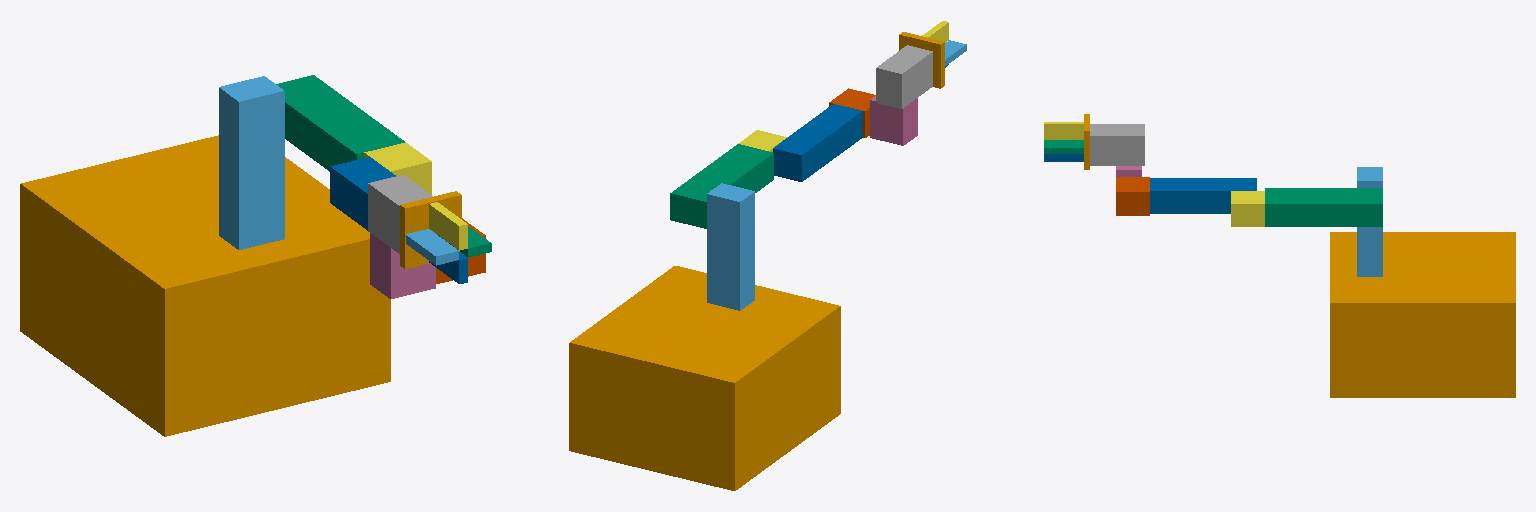
The robot description file, URDF, robot "[local-path]/JaniBot/Robot.urdf":
<?xml version="1.0"?>
<robot name="[local-path]/JaniBot/Robot.urdf" xmlns:xacro="http://ros.org/wiki/xacro">
  <link name="base_link">
    <visual>
      <origin xyz="0 0 -0.065" rpy="0 0 0"/>
      <geometry>
        <box size="0.64 0.706849 0.4004"/>
      </geometry>
    </visual>
    <collision>
      <origin xyz="0 0 -0.065" rpy="0 0 0"/>
      <geometry>
        <box size="0.64 0.706849 0.4004"/>
      </geometry>
    </collision>
  </link>
  <joint name="base_motor" type="continuous">
    <parent link="base_link"/>
    <child link="base_motor_14"/>
    <axis xyz="0 0 1"/>
    <limit effort="10" velocity="10"/>
    <origin xyz="0 -0.2 0.13" rpy="0 0 0"/>
  </joint>
  <link name="base_motor_14">
    <visual>
      <origin xyz="0.0151996 1.11759e-08 0.204925" rpy="0 0 0"/>
      <geometry>
        <box size="0.129851 0.1 0.40393"/>
      </geometry>
    </visual>
    <collision>
      <origin xyz="0.0151996 1.11759e-08 0.204925" rpy="0 0 0"/>
      <geometry>
        <box size="0.129851 0.1 0.40393"/>
      </geometry>
    </collision>
  </link>
  <joint name="arm_a_motor" type="continuous">
    <parent link="base_motor_14"/>
    <child link="arm_a_motor_24"/>
    <axis xyz="1 0 0"/>
    <limit effort="10" velocity="10"/>
    <origin xyz="0.0801831 5.96046e-08 0.32689" rpy="0 0 0"/>
  </joint>
  <link name="arm_a_motor_24">
    <visual>
      <origin xyz="0.07 -0.176146 -1.86265e-08" rpy="0 0 0"/>
      <geometry>
        <box size="0.14 0.451743 0.1"/>
      </geometry>
    </visual>
    <collision>
      <origin xyz="0.07 -0.176146 -1.86265e-08" rpy="0 0 0"/>
      <geometry>
        <box size="0.14 0.451743 0.1"/>
      </geometry>
    </collision>
  </link>
  <joint name="joint_a_motor" type="continuous">
    <parent link="arm_a_motor_24"/>
    <child link="joint_a_motor_34"/>
    <axis xyz="0 1 0"/>
    <limit effort="10" velocity="10"/>
    <origin xyz="0.0798171 -0.399875 -5.96046e-08" rpy="0 0 0"/>
  </joint>
  <link name="joint_a_motor_34">
    <visual>
      <origin xyz="0.00113802 -0.0649255 0" rpy="0 0 0"/>
      <geometry>
        <box size="0.118092 0.129851 0.1"/>
      </geometry>
    </visual>
    <collision>
      <origin xyz="0.00113802 -0.0649255 0" rpy="0 0 0"/>
      <geometry>
        <box size="0.118092 0.129851 0.1"/>
      </geometry>
    </collision>
  </link>
  <joint name="arm_b_motor" type="continuous">
    <parent link="joint_a_motor_34"/>
    <child link="arm_b_motor_44"/>
    <axis xyz="1 0 0"/>
    <limit effort="10" velocity="10"/>
    <origin xyz="-0.057908 -0.080125 0" rpy="0 0 0"/>
  </joint>
  <link name="arm_b_motor_44">
    <visual>
      <origin xyz="-0.056334 -0.154057 9.31323e-09" rpy="0 0 0"/>
      <geometry>
        <box size="0.112668 0.408113 0.099452"/>
      </geometry>
    </visual>
    <collision>
      <origin xyz="-0.056334 -0.154057 9.31323e-09" rpy="0 0 0"/>
      <geometry>
        <box size="0.112668 0.408113 0.099452"/>
      </geometry>
    </collision>
  </link>
  <joint name="joint_b_motor" type="continuous">
    <parent link="arm_b_motor_44"/>
    <child link="joint_b_motor_54"/>
    <axis xyz="0 1 0"/>
    <limit effort="10" velocity="10"/>
    <origin xyz="-0.0626679 -0.358113 -5.96046e-08" rpy="0 0 0"/>
  </joint>
  <link name="joint_b_motor_54">
    <visual>
      <origin xyz="0.00990802 -0.0649255 -3.72529e-09" rpy="0 0 0"/>
      <geometry>
        <box size="0.140184 0.129851 0.1"/>
      </geometry>
    </visual>
    <collision>
      <origin xyz="0.00990802 -0.0649255 -3.72529e-09" rpy="0 0 0"/>
      <geometry>
        <box size="0.140184 0.129851 0.1"/>
      </geometry>
    </collision>
  </link>
  <joint name="joint_c_motor" type="continuous">
    <parent link="joint_b_motor_54"/>
    <child link="joint_c_motor_64"/>
    <axis xyz="1 0 0"/>
    <limit effort="10" velocity="10"/>
    <origin xyz="-0.05992 -0.080065 0" rpy="0 0 0"/>
  </joint>
  <link name="joint_c_motor_64">
    <visual>
      <origin xyz="-0.0649255 -2.23517e-08 0.00990805" rpy="0 0 0"/>
      <geometry>
        <box size="0.129851 0.1 0.140184"/>
      </geometry>
    </visual>
    <collision>
      <origin xyz="-0.0649255 -2.23517e-08 0.00990805" rpy="0 0 0"/>
      <geometry>
        <box size="0.129851 0.1 0.140184"/>
      </geometry>
    </collision>
  </link>
  <joint name="joint_d_motor" type="continuous">
    <parent link="joint_c_motor_64"/>
    <child link="joint_d_motor_74"/>
    <axis xyz="0 0 1"/>
    <limit effort="10" velocity="10"/>
    <origin xyz="-0.079971 0.000211835 0.08" rpy="0 0 0"/>
  </joint>
  <link name="joint_d_motor_74">
    <visual>
      <origin xyz="6.33299e-08 -0.0458905 0.0649255" rpy="0 0 0"/>
      <geometry>
        <box size="0.1 0.212149 0.129851"/>
      </geometry>
    </visual>
    <collision>
      <origin xyz="6.33299e-08 -0.0458905 0.0649255" rpy="0 0 0"/>
      <geometry>
        <box size="0.1 0.212149 0.129851"/>
      </geometry>
    </collision>
  </link>
  <joint name="grip_base_motor" type="continuous">
    <parent link="joint_d_motor_74"/>
    <child link="grip_base_motor_84"/>
    <axis xyz="0 1 0"/>
    <limit effort="10" velocity="10"/>
    <origin xyz="9.68575e-08 -0.160421 0.080125" rpy="0 0 0"/>
  </joint>
  <link name="grip_base_motor_84">
    <visual>
      <origin xyz="0.000149999 0 0" rpy="0 0 0"/>
      <geometry>
        <box size="0.159496 0.0262681 0.163764"/>
      </geometry>
    </visual>
    <collision>
      <origin xyz="0.000149999 0 0" rpy="0 0 0"/>
      <geometry>
        <box size="0.159496 0.0262681 0.163764"/>
      </geometry>
    </collision>
  </link>
  <joint name="grip_b_motor" type="continuous">
    <parent link="grip_base_motor_84"/>
    <child link="grip_b_motor_124"/>
    <axis xyz="0 0 1"/>
    <limit effort="10" velocity="10"/>
    <origin xyz="-0.06575 0.00192595 -5.96046e-08" rpy="0 0 0"/>
  </joint>
  <link name="grip_b_motor_124">
    <visual>
      <origin xyz="0.019878 -0.0818821 5.12227e-09" rpy="0 0 0"/>
      <geometry>
        <box size="0.0660241 0.163764 0.02467"/>
      </geometry>
    </visual>
    <collision>
      <origin xyz="0.019878 -0.0818821 5.12227e-09" rpy="0 0 0"/>
      <geometry>
        <box size="0.0660241 0.163764 0.02467"/>
      </geometry>
    </collision>
  </link>
  <joint name="grip_a_motor" type="continuous">
    <parent link="grip_base_motor_84"/>
    <child link="grip_a_motor_114"/>
    <axis xyz="0 0 1"/>
    <limit effort="10" velocity="10"/>
    <origin xyz="0.0656731 0.00192595 -5.96046e-08" rpy="0 0 0"/>
  </joint>
  <link name="grip_a_motor_114">
    <visual>
      <origin xyz="-0.019878 -0.0818821 1.86265e-08" rpy="0 0 0"/>
      <geometry>
        <box size="0.066024 0.163764 0.0246701"/>
      </geometry>
    </visual>
    <collision>
      <origin xyz="-0.019878 -0.0818821 1.86265e-08" rpy="0 0 0"/>
      <geometry>
        <box size="0.066024 0.163764 0.0246701"/>
      </geometry>
    </collision>
  </link>
  <joint name="grip_c_motor" type="continuous">
    <parent link="grip_base_motor_84"/>
    <child link="grip_c_motor_104"/>
    <axis xyz="1 0 0"/>
    <limit effort="10" velocity="10"/>
    <origin xyz="5.21541e-08 0.00192595 0.0657499" rpy="0 0 0"/>
  </joint>
  <link name="grip_c_motor_104">
    <visual>
      <origin xyz="2.56114e-08 -0.0818821 -0.019878" rpy="0 0 0"/>
      <geometry>
        <box size="0.0246701 0.163764 0.0660241"/>
      </geometry>
    </visual>
    <collision>
      <origin xyz="2.56114e-08 -0.0818821 -0.019878" rpy="0 0 0"/>
      <geometry>
        <box size="0.0246701 0.163764 0.0660241"/>
      </geometry>
    </collision>
  </link>
  <joint name="grip_d_motor" type="continuous">
    <parent link="grip_base_motor_84"/>
    <child link="grip_d_motor_94"/>
    <axis xyz="1 0 0"/>
    <limit effort="10" velocity="10"/>
    <origin xyz="-1.49012e-08 0.00192595 -0.0656731" rpy="0 0 0"/>
  </joint>
  <link name="grip_d_motor_94">
    <visual>
      <origin xyz="4.19095e-08 -0.0818821 0.019878" rpy="0 0 0"/>
      <geometry>
        <box size="0.0246701 0.163764 0.0660241"/>
      </geometry>
    </visual>
    <collision>
      <origin xyz="4.19095e-08 -0.0818821 0.019878" rpy="0 0 0"/>
      <geometry>
        <box size="0.0246701 0.163764 0.0660241"/>
      </geometry>
    </collision>
  </link>
</robot>

--- Facts derived from the render (not from the file) ---
Views: 3 orthographic renders of the robot side by side, from view 1: azimuth 30°, elevation 25°; view 2: azimuth 150°, elevation 25°; view 3: azimuth 270°, elevation 25°.
Model [local-path]/JaniBot/Robot.urdf with 13 links and 12 joints (12 continuous), rooted at base_link, posed every joint at zero.
Visible links, largest first — view 1: base_link, base_motor_14, arm_a_motor_24, joint_d_motor_74, arm_b_motor_44, joint_c_motor_64, grip_base_motor_84, joint_a_motor_34, grip_c_motor_104, grip_b_motor_124, grip_d_motor_94, joint_b_motor_54 (+1 smaller); view 2: base_link, base_motor_14, arm_b_motor_44, arm_a_motor_24, joint_d_motor_74, joint_c_motor_64, grip_base_motor_84, joint_b_motor_54, joint_a_motor_34; view 3: base_link, arm_a_motor_24, arm_b_motor_44, joint_d_motor_74, base_motor_14, joint_b_motor_54, joint_a_motor_34, grip_c_motor_104, grip_a_motor_114.
Boxes of the visible links, bbox=[...] form: base_link: bbox=[20, 135, 390, 436]; base_motor_14: bbox=[219, 76, 284, 249]; arm_a_motor_24: bbox=[276, 75, 404, 171]; joint_d_motor_74: bbox=[368, 175, 432, 253]; arm_b_motor_44: bbox=[330, 157, 395, 230]; joint_c_motor_64: bbox=[370, 233, 435, 298]; grip_base_motor_84: bbox=[400, 191, 461, 268]; joint_a_motor_34: bbox=[364, 142, 431, 194]; grip_c_motor_104: bbox=[429, 202, 467, 250]; grip_b_motor_124: bbox=[406, 229, 458, 265]; grip_d_motor_94: bbox=[429, 252, 467, 283]; joint_b_motor_54: bbox=[436, 218, 485, 283]; base_link: bbox=[569, 266, 840, 490]; base_motor_14: bbox=[707, 183, 754, 310]; arm_b_motor_44: bbox=[773, 104, 862, 181]; arm_a_motor_24: bbox=[670, 144, 773, 228]; joint_d_motor_74: bbox=[876, 45, 932, 108]; joint_c_motor_64: bbox=[870, 96, 917, 145]; grip_base_motor_84: bbox=[899, 32, 944, 88]; joint_b_motor_54: bbox=[829, 88, 875, 137]; joint_a_motor_34: bbox=[738, 130, 787, 151]; base_link: bbox=[1330, 232, 1515, 397]; arm_a_motor_24: bbox=[1265, 188, 1382, 226]; arm_b_motor_44: bbox=[1150, 178, 1256, 213]; joint_d_motor_74: bbox=[1090, 124, 1144, 165]; base_motor_14: bbox=[1357, 167, 1382, 276]; joint_b_motor_54: bbox=[1116, 177, 1149, 215]; joint_a_motor_34: bbox=[1231, 191, 1264, 226]; grip_c_motor_104: bbox=[1044, 122, 1083, 139]; grip_a_motor_114: bbox=[1044, 140, 1083, 153].
Bounding box of the posed robot: 0.64 × 1.79 × 0.9641 m (x, y, z).
Geometry: primitives only (box / cylinder / sphere), no mesh files.
